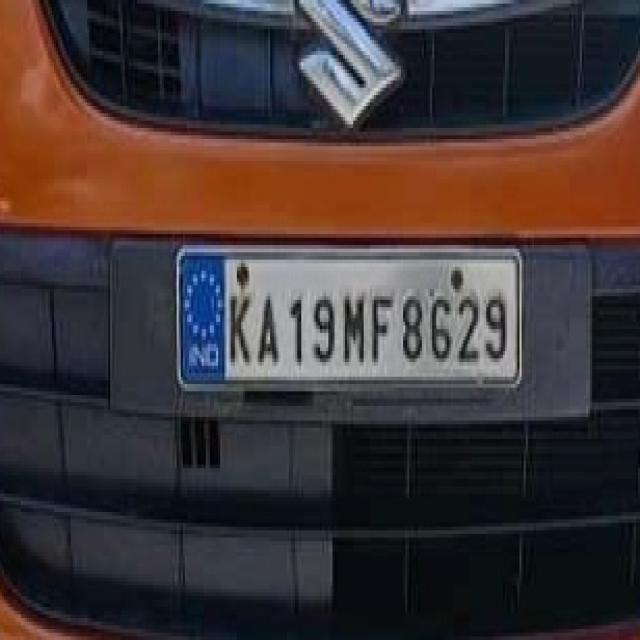1: (287, 294, 306, 368)
6: (430, 290, 455, 366)
8: (400, 290, 426, 367)
9: (483, 288, 514, 368), (312, 288, 336, 371)
A: (256, 282, 285, 376)
F: (368, 288, 396, 362)
K: (226, 288, 254, 369)
M: (339, 290, 369, 368)
